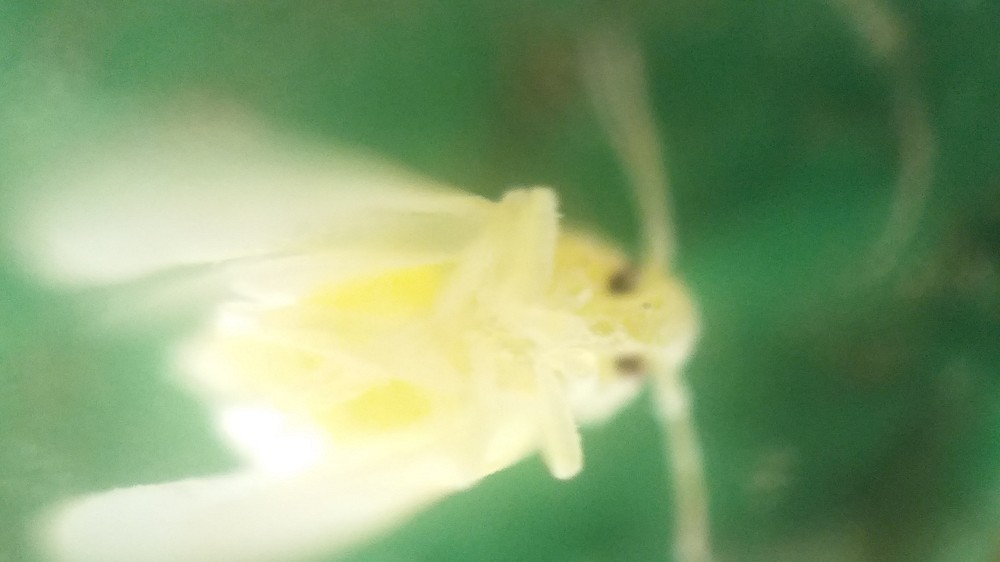Mosca Blanca: (37, 44, 764, 562)
